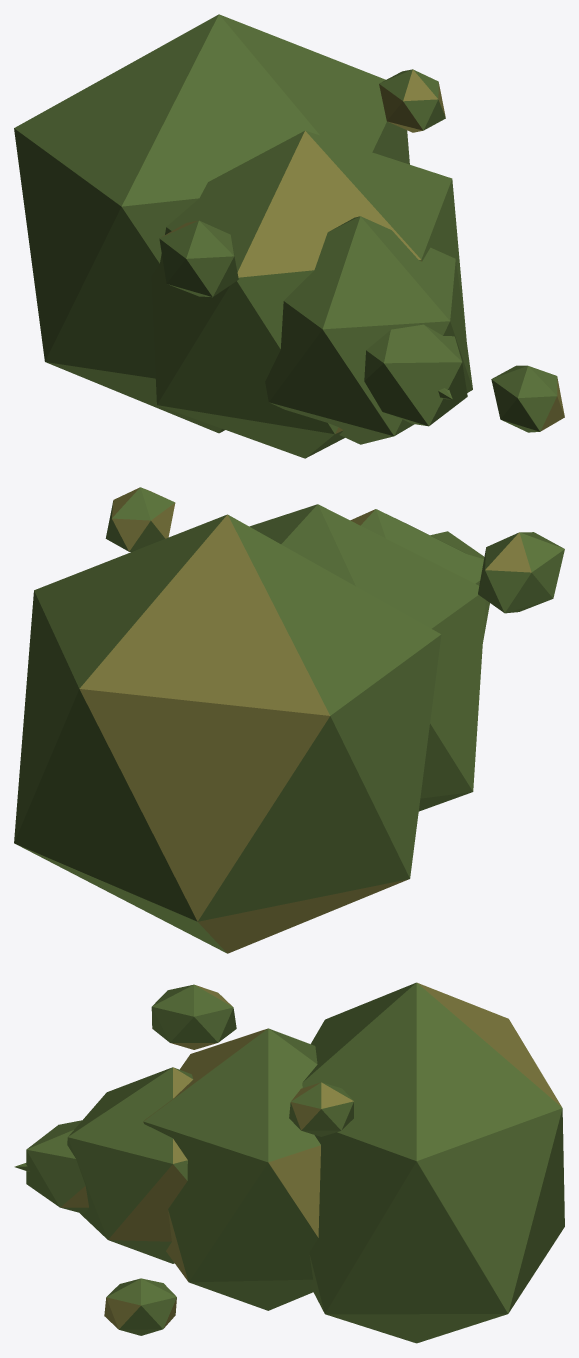
File: fx_acid_glob.fbx
3 renders of one model, top to bottom at view 1: azimuth 30°, elevation 25°; view 2: azimuth 150°, elevation 25°; view 3: azimuth 270°, elevation 25°, orthographic. The views are drawn at different scales.
Visible parts, largest first — view 1: fx_acid_glob; view 2: fx_acid_glob; view 3: fx_acid_glob.
Part boxes in pixels (box(x1,y1,x2,y2)): fx_acid_glob: box(14, 14, 564, 458); fx_acid_glob: box(14, 487, 564, 953); fx_acid_glob: box(14, 982, 564, 1343).
Size of the model in its own units: 0.3438 by 0.3759 by 0.52.
